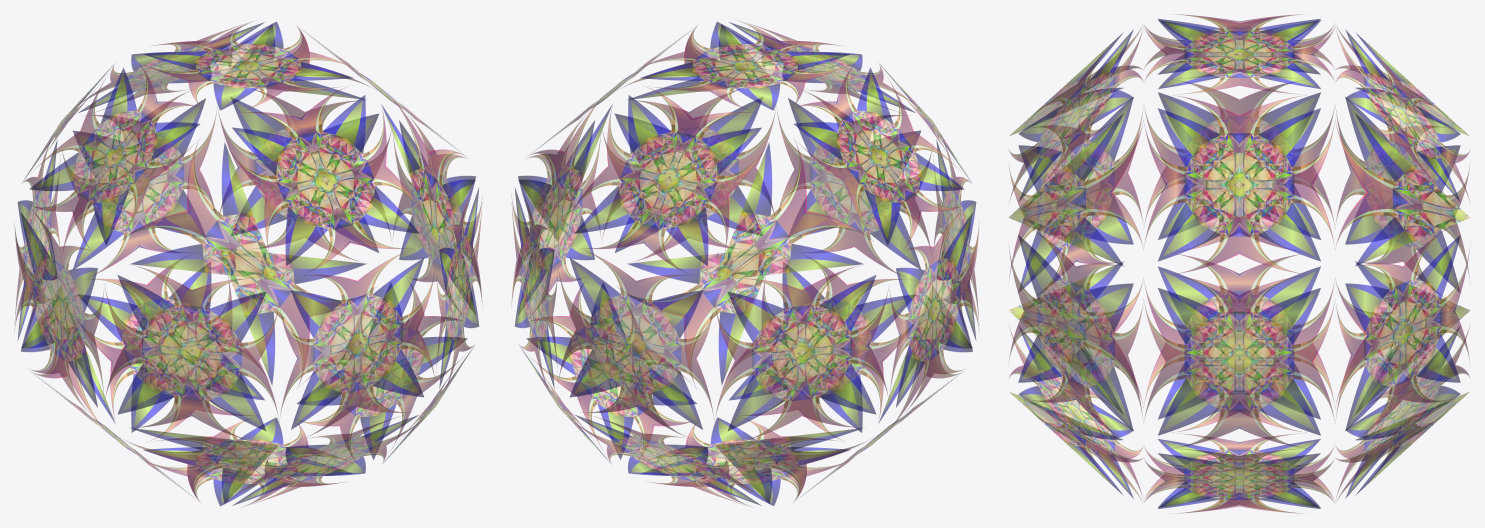
The model's file is 1Rhombicuboctahedron.gltf.
The picture shows the model from 3 angles, left to right: view 1: azimuth 30°, elevation 25°; view 2: azimuth 150°, elevation 25°; view 3: azimuth 270°, elevation 25°; orthographic projection. The views are drawn at different scales.
Parts seen in each view (by area): view 1: Rhombicuboctahedron9; view 2: Rhombicuboctahedron9; view 3: Rhombicuboctahedron9.
Boxes of the visible parts, box(x1,y1,x2,y2) form: Rhombicuboctahedron9: box(14, 21, 482, 506); Rhombicuboctahedron9: box(512, 22, 978, 505); Rhombicuboctahedron9: box(1009, 14, 1469, 513).
Size of the model in its own units: 2.41 by 2.41 by 2.41.
1 material, 1 textured.
